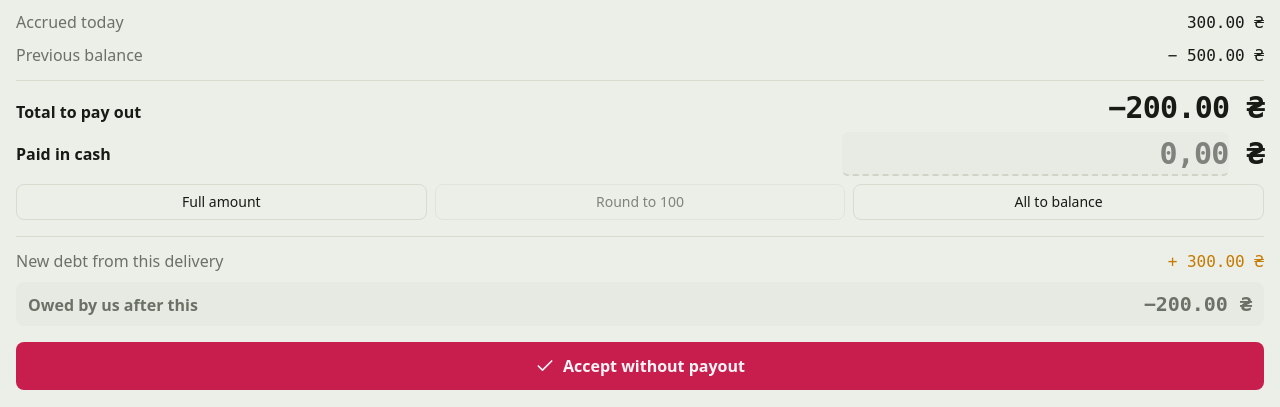
TotalsSection — the total and the carried-in balance › never caps below zero when the supplier still owes us after today (R3)
Click the button "Full amount". click: (221, 202)
box: [16,184,427,220]
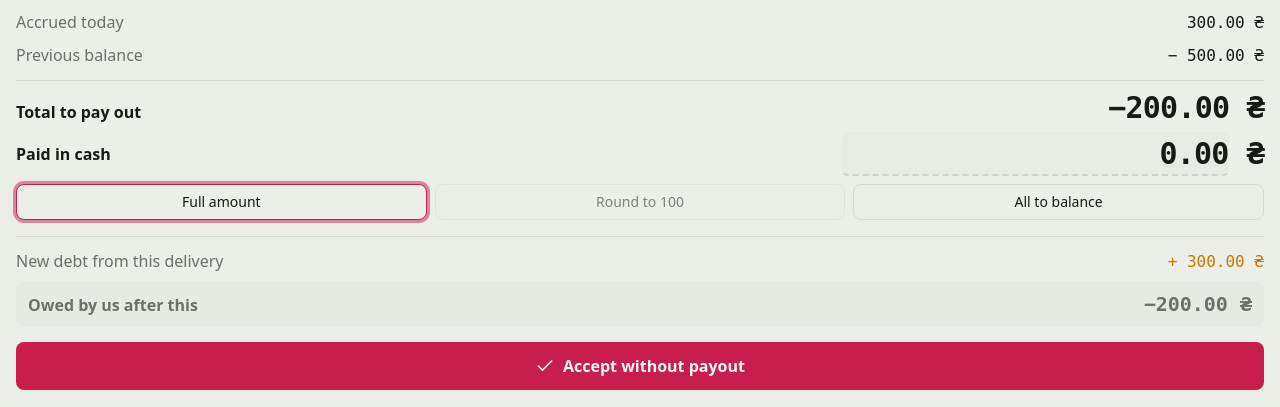
Expected: the button "Round to 100" is disabled, [435,184,845,220]
Now the field labelled "Paid in cash" holds "0.00"
Note: Any payout at all is over the cap: refused, the button disabled.
Replace the text in the field labelled "Paid in cash" with "1". click: (1035, 154)
box: [842,132,1229,176]
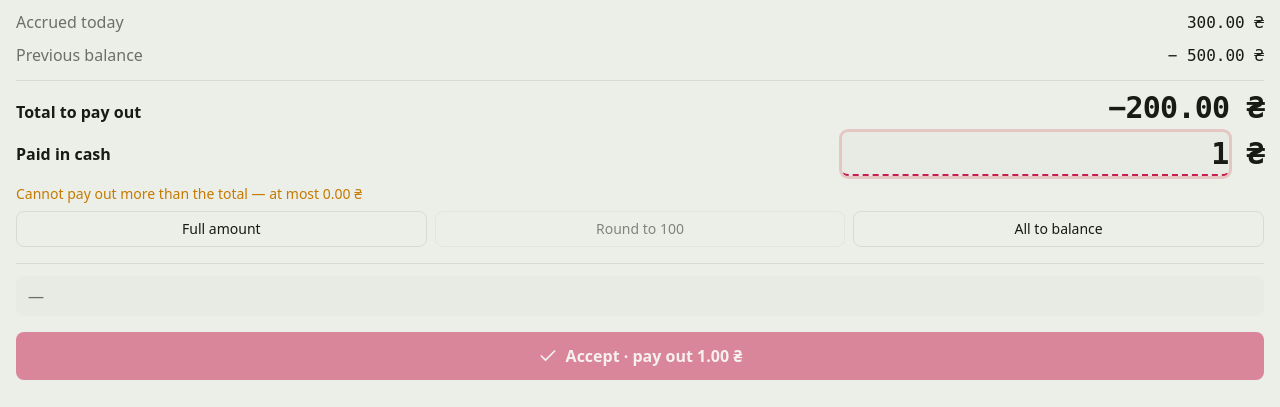
Now the text "Cannot pay out more than the total — at most 0.00 ₴" is shown, box [16,184,362,203]
Now the button "Accept · pay out 1.00 ₴" is disabled, box [16,332,1264,380]
